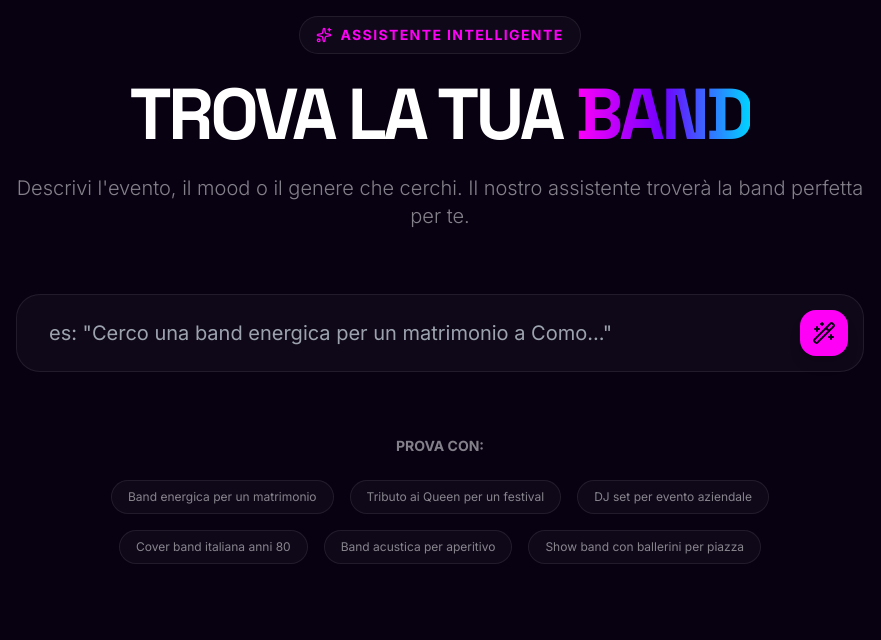
Test: BandFinder › shows no match message when artist not found in pool
Check: the button named "Cerca con AI" is enabled, box 800,310 -> 848,356
In the field named "Descrivi la band che cerchi": (440, 333) 16,294 -> 864,372, type "Something random"
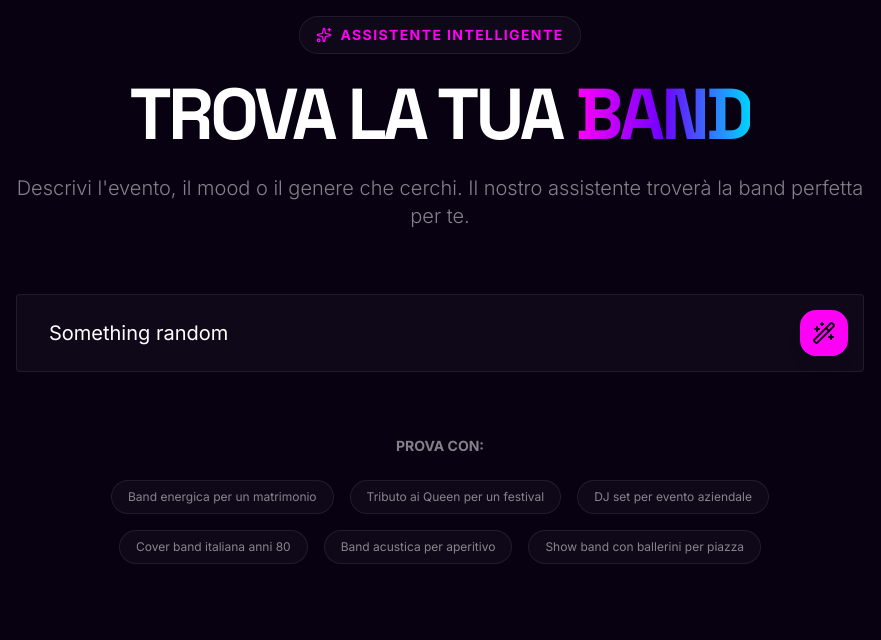
Click the button named "Cerca con AI": click(824, 333) 800,310 -> 848,356
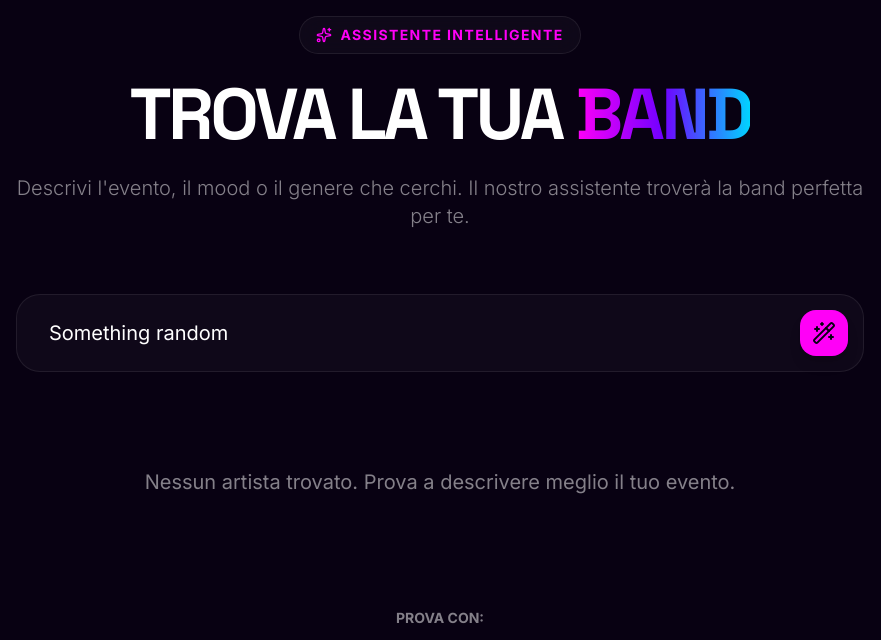
Check: the text "Nessun artista trovato" is shown, box 145,470 -> 735,494
